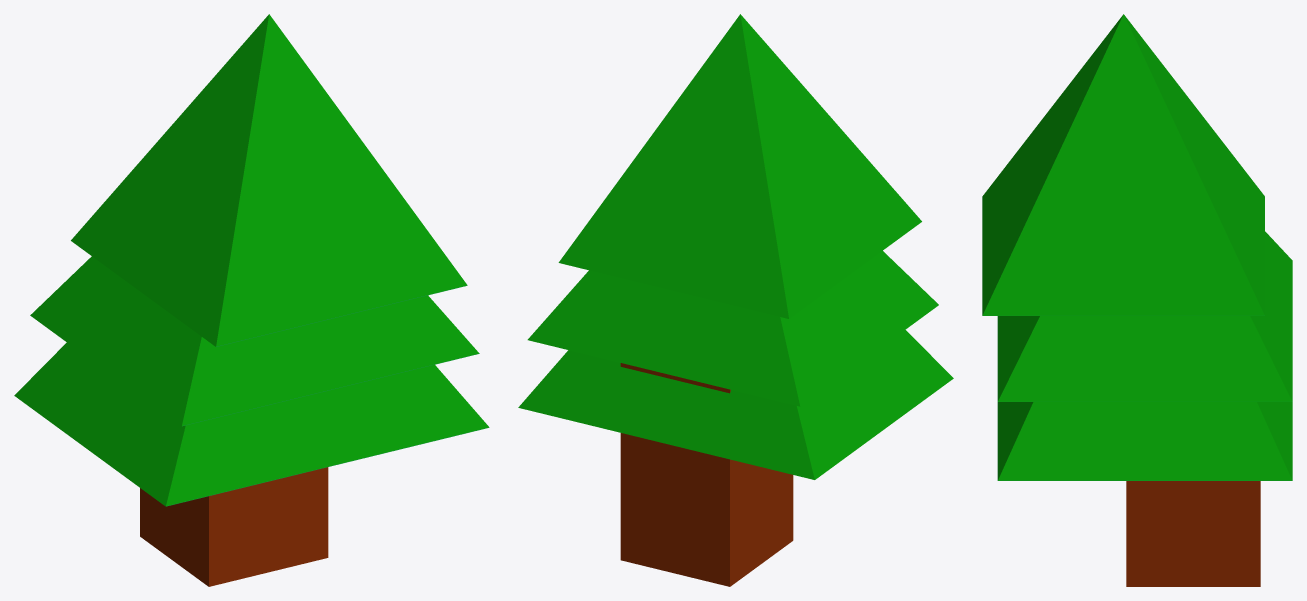
The model's file is tree!!!.fbx.
The picture shows the model from 3 angles, left to right: view 1: azimuth 30°, elevation 25°; view 2: azimuth 150°, elevation 25°; view 3: azimuth 270°, elevation 25°; orthographic projection. The views are drawn at different scales.
Visible parts, largest first — view 1: root (×4); view 2: root (×4); view 3: root (×4).
Part boxes in pixels (x1,y1,x2,y2): root (×4): [14, 14, 489, 586]; root (×4): [518, 14, 953, 586]; root (×4): [982, 14, 1292, 586].
Size of the model in its own units: 0.2701 by 0.4458 by 0.2304.
Materials: 4 (4 with a texture image).
